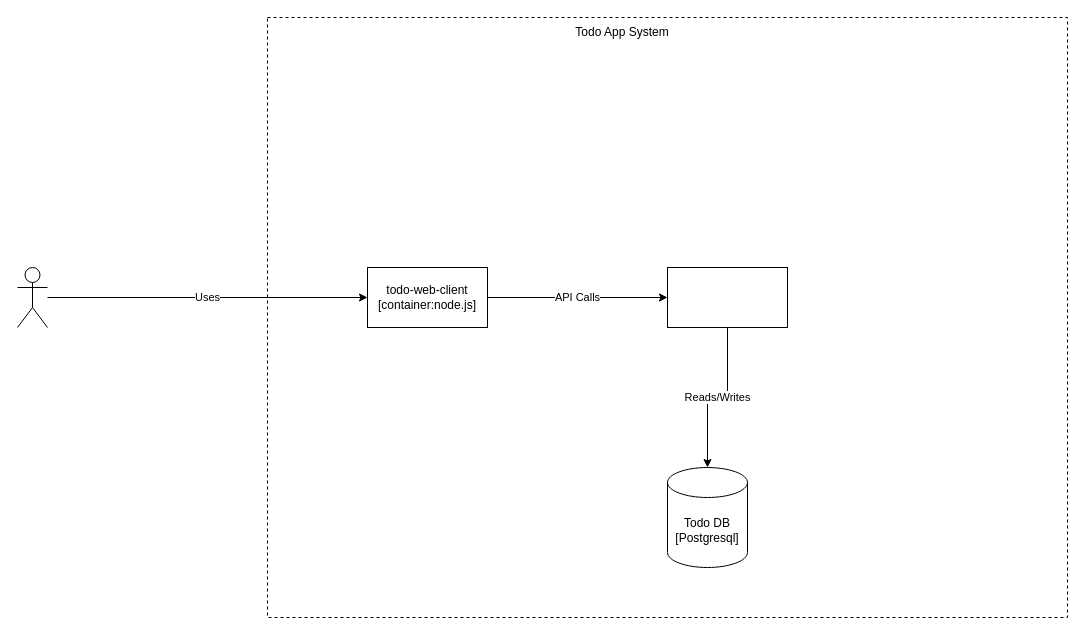
The diagram is 1085 pixels wide and 635 high, and some of its shapes have lost their labels. The box of each missing label's shape, as (x1, y1, x2, y2) in pixels:
api-todo-service [container:python]: (666, 266, 788, 328)
User: (16, 266, 48, 328)
